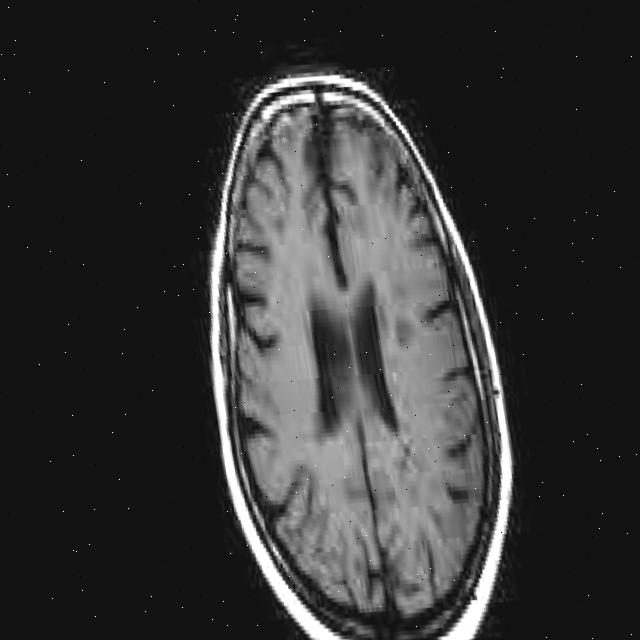NoTumor: (185, 81, 520, 639)
